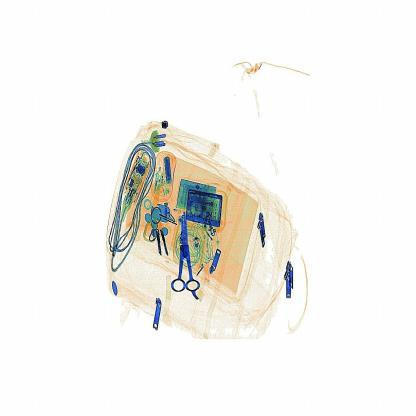gun: (165, 198, 210, 306)
